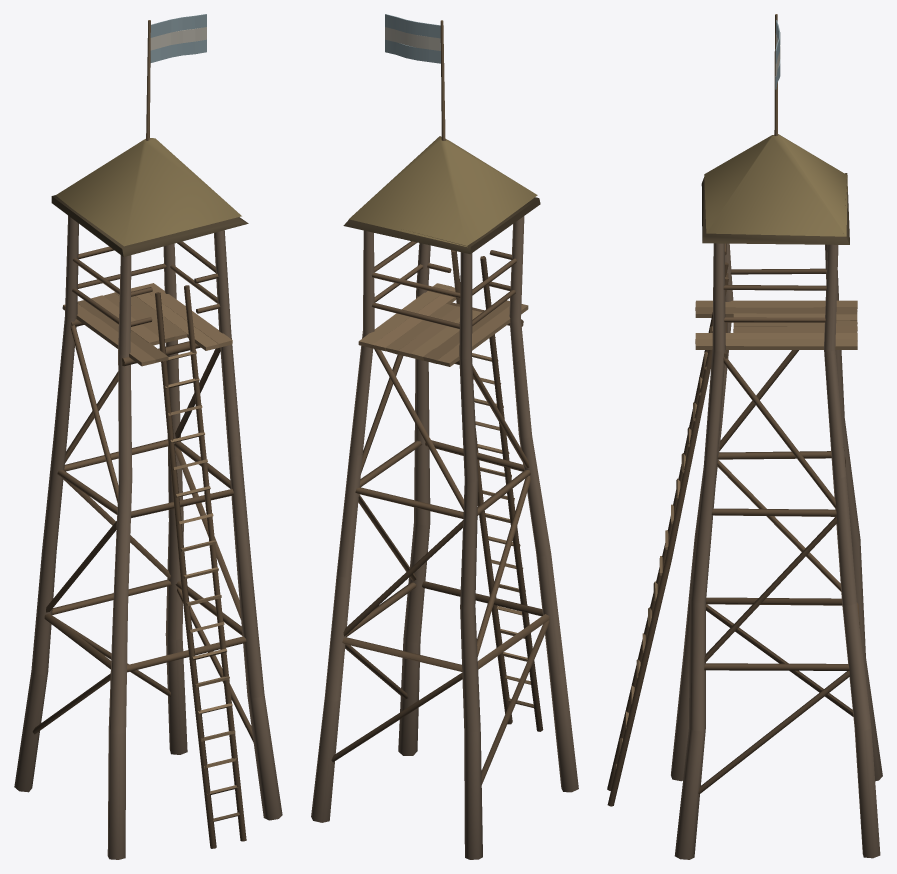
The model's file is mangrullo.glb.
The picture shows the model from 3 angles, left to right: view 1: azimuth 30°, elevation 25°; view 2: azimuth 150°, elevation 25°; view 3: azimuth 270°, elevation 25°; orthographic projection. The views are drawn at different scales.
Parts seen in each view (by area): view 1: Mangrullo; view 2: Mangrullo; view 3: Mangrullo.
Part boxes in pixels (bbox=[...]): Mangrullo: bbox=[14, 14, 282, 859]; Mangrullo: bbox=[311, 14, 578, 859]; Mangrullo: bbox=[607, 14, 882, 859].
Size of what is drawn, in the model's own units: 2.99 by 12.82 by 3.99.
